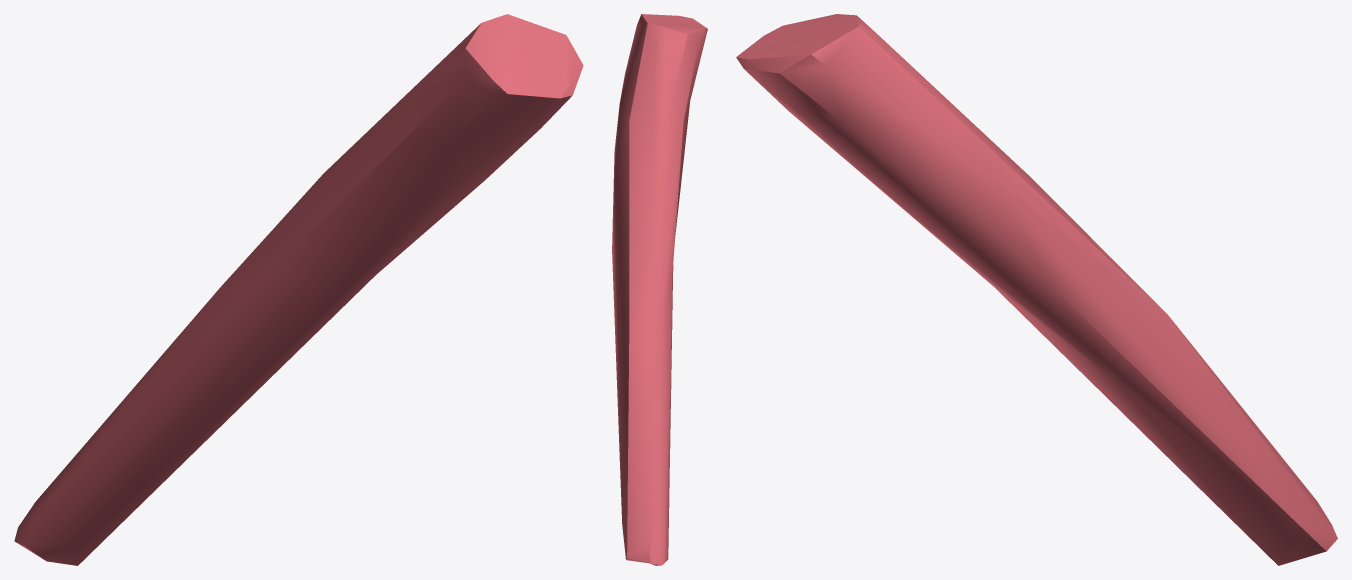
File: fma13292_fj6017.glb
3 views of the same model, side by side, from view 1: azimuth 30°, elevation 25°; view 2: azimuth 150°, elevation 25°; view 3: azimuth 270°, elevation 25° (orthographic). The views are drawn at different scales.
Visible parts, largest first — view 1: FMA13292_FJ6017; view 2: FMA13292_FJ6017; view 3: FMA13292_FJ6017.
Boxes of the visible parts, x1=… form: FMA13292_FJ6017: x1=14, y1=14, x2=583, y2=565; FMA13292_FJ6017: x1=612, y1=14, x2=707, y2=565; FMA13292_FJ6017: x1=736, y1=14, x2=1337, y2=565.
Bounding box in the file's own units: 0.00826 × 0.0176 × 0.015.
